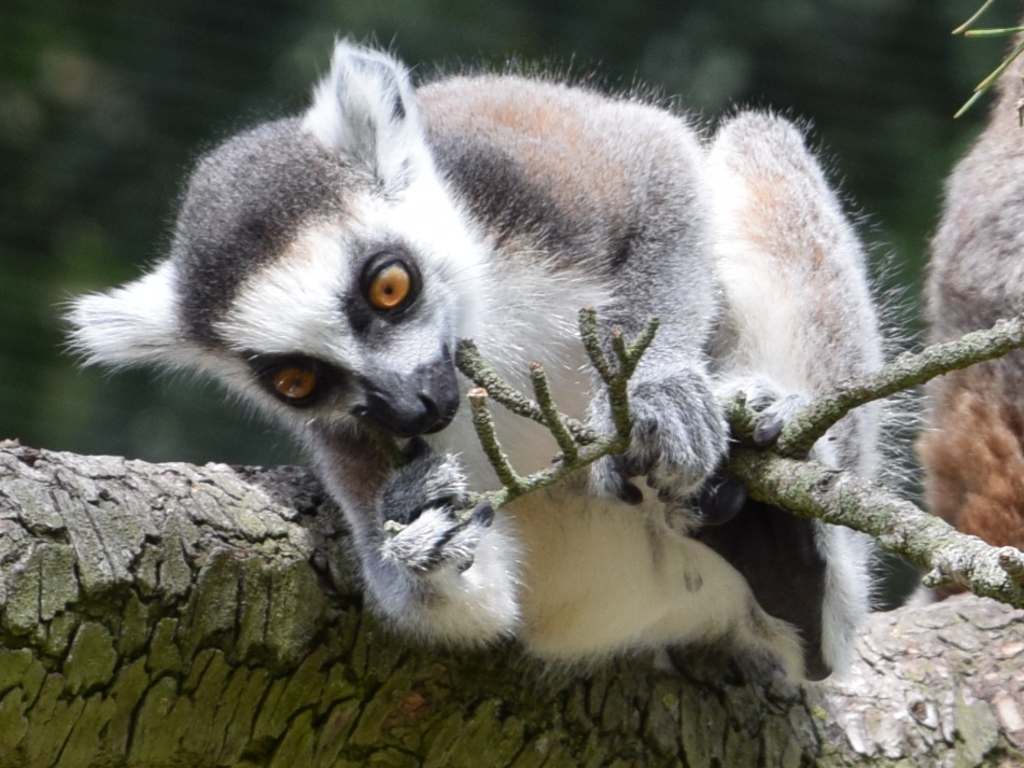Tree: (0, 308, 1024, 768)
